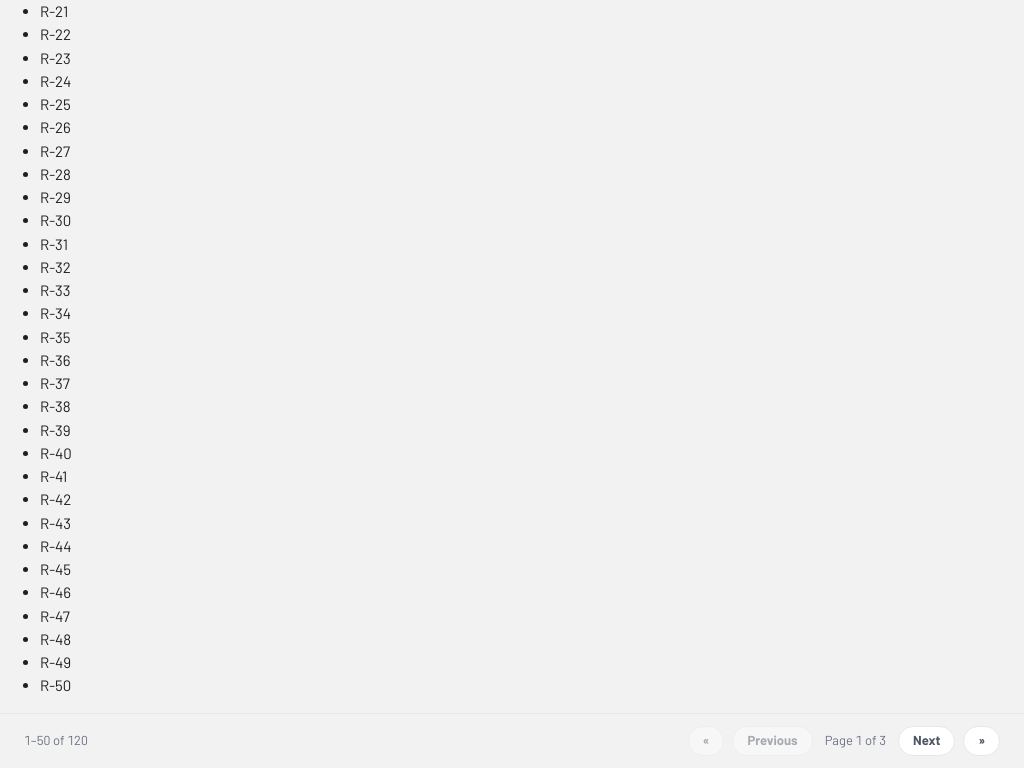
Scenario: usePaged › shows a long list one page at a time
This screenshot has width=1024, height=768.
(page scrolled)
Expected: the text "1–50 of 120" is shown, [24,730,88,750]
Click the button "Next" at (927, 740), box [898,726,955,756]
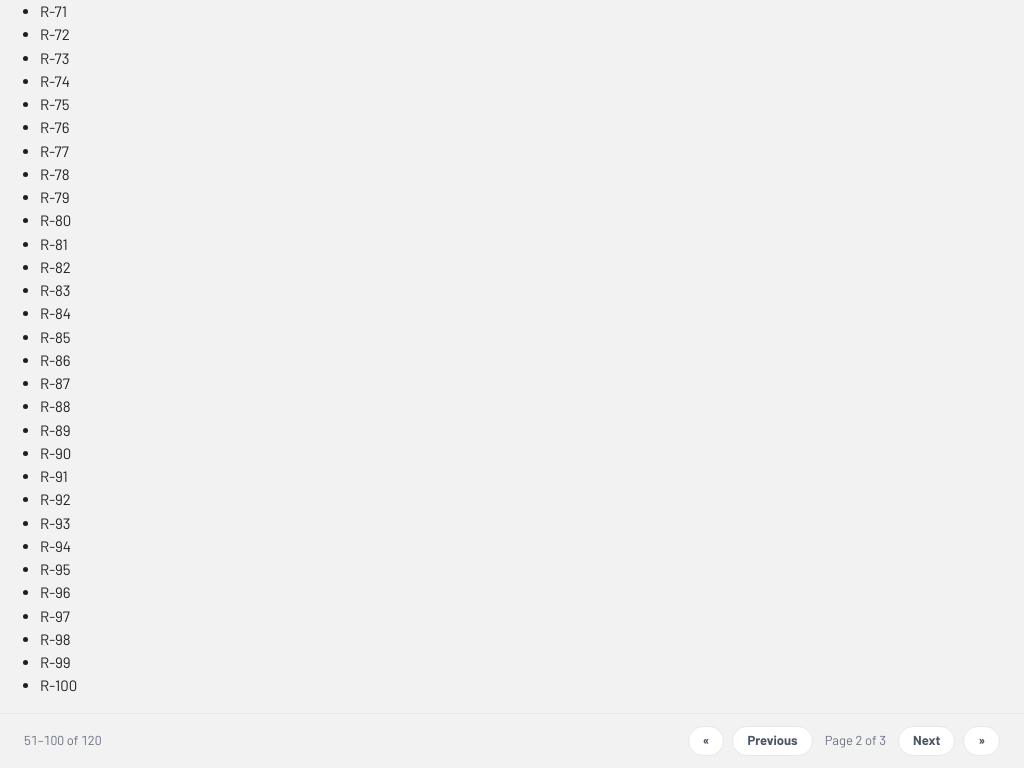
Result: the text "51–100 of 120" is shown at [24,730,102,750]
Click the button "Next" at (927, 740), box [898,726,955,756]
(page scrolled)
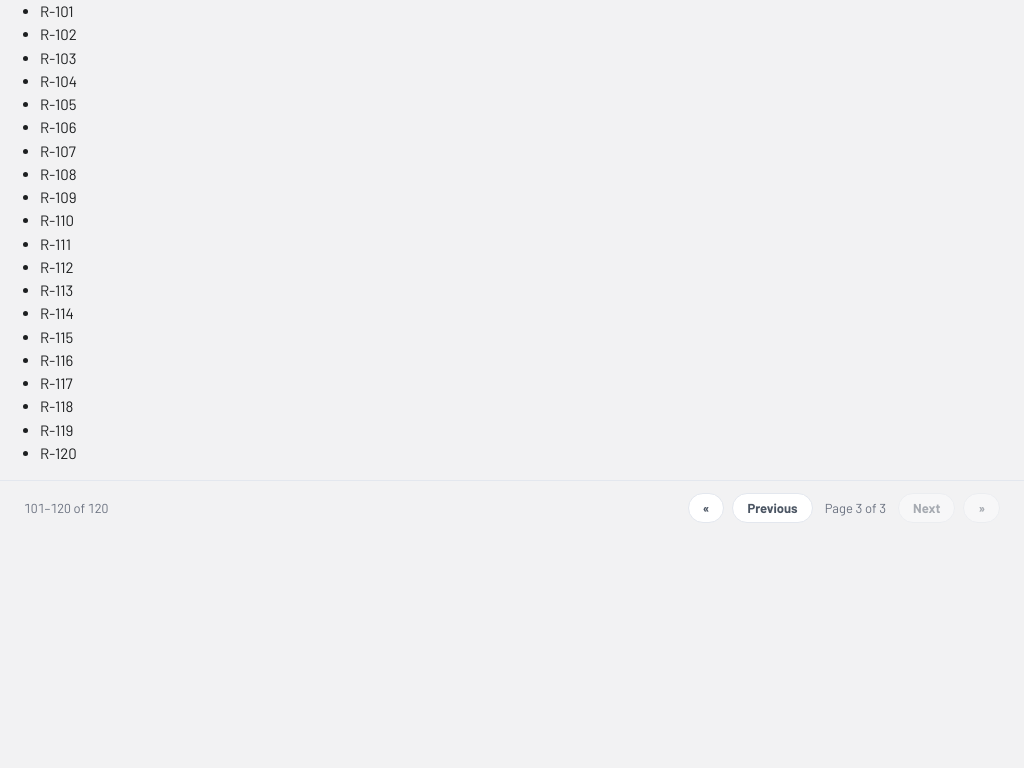
Result: the number of list items is 20
Result: the button "Next" is disabled at [898,493,955,523]
